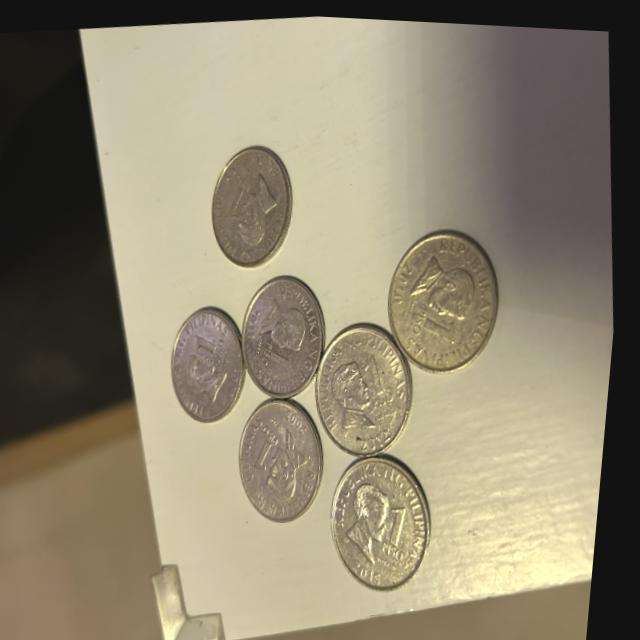1_Old_Front: (410, 293, 475, 353), (382, 487, 427, 566), (250, 412, 301, 472), (362, 345, 413, 399), (220, 170, 265, 227), (261, 322, 312, 368), (193, 325, 239, 368)
